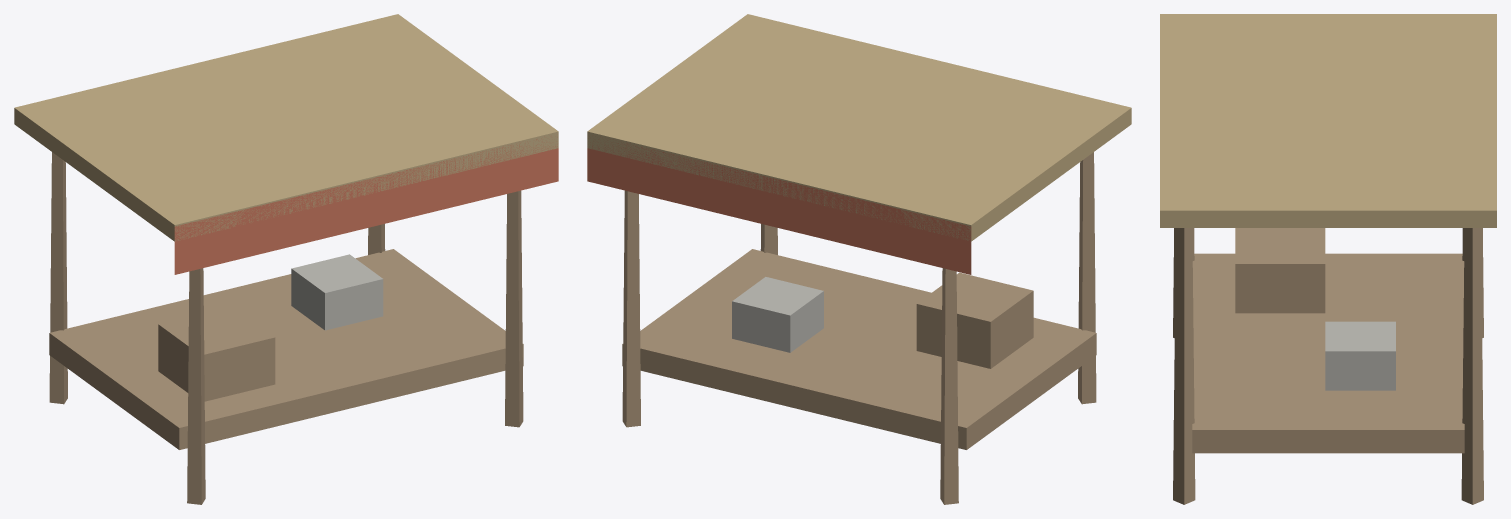
File: market_stall.glb
The picture shows the model from 3 angles, left to right: view 1: azimuth 30°, elevation 25°; view 2: azimuth 150°, elevation 25°; view 3: azimuth 270°, elevation 25°; orthographic projection. The views are drawn at different scales.
Parts seen in each view (by area): view 1: lod0; view 2: lod0; view 3: lod0.
Boxes of the visible parts, x1,y1,x2,y2 form: lod0: (14,14,558,504); lod0: (587,14,1131,504); lod0: (1160,14,1496,504).
Size of what is drawn, in the model's own units: 2.9 by 2.11 by 2.1.
